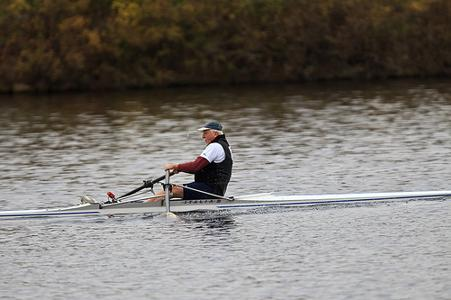person: (144, 121, 234, 205)
